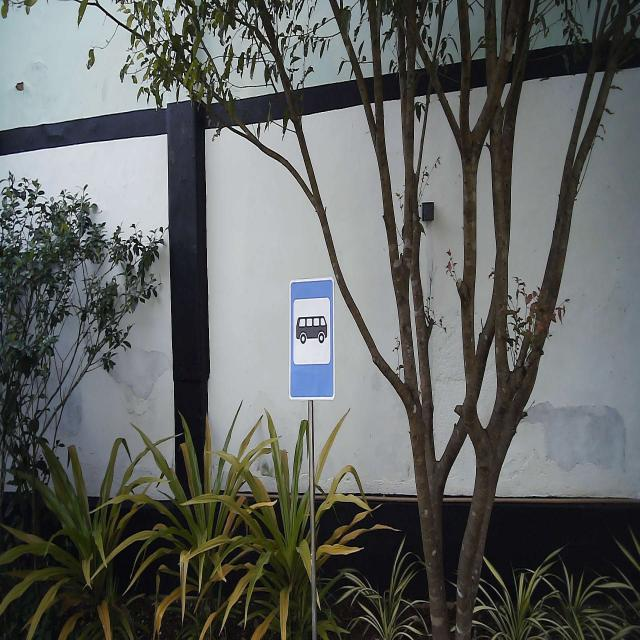bus_stop: (288, 276, 336, 404)
